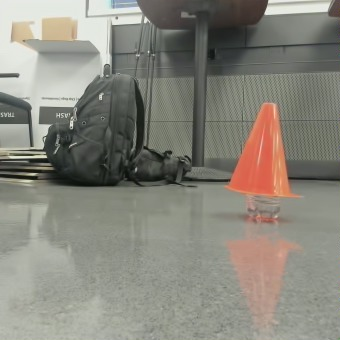Cone: (242, 96, 303, 188)
